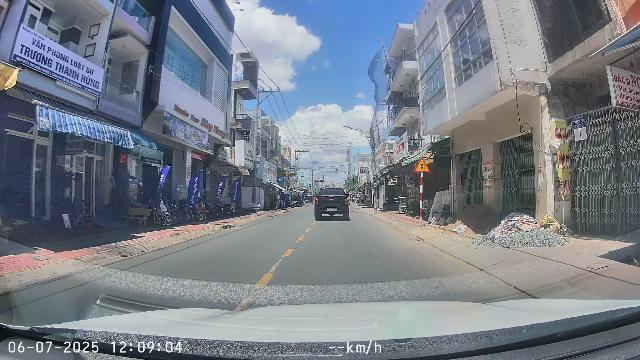209-giao-nhau-co-tin-hieu-den: (414, 158, 430, 173)
